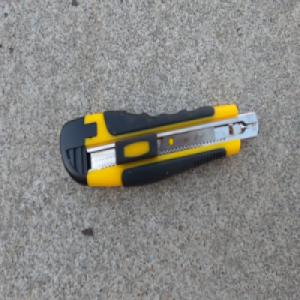Cutter: (59, 101, 259, 188)
